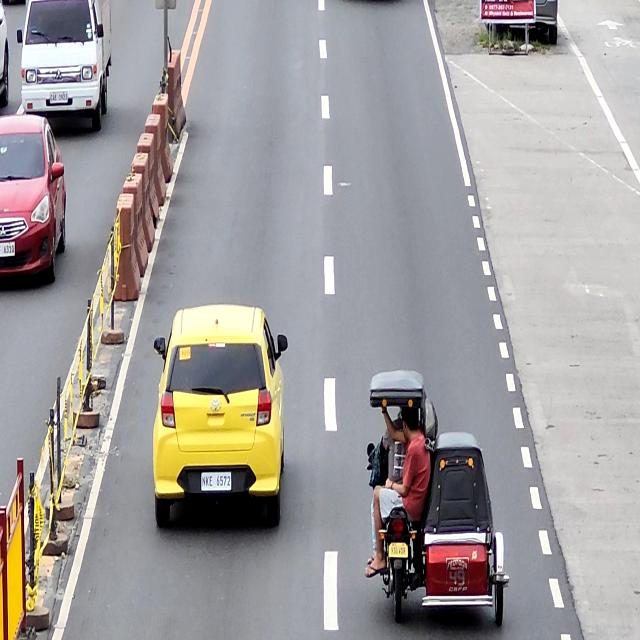Car: (151, 302, 288, 528)
License-Plate: (201, 471, 232, 492), (385, 540, 409, 560)
Tricycle: (364, 372, 509, 626)
